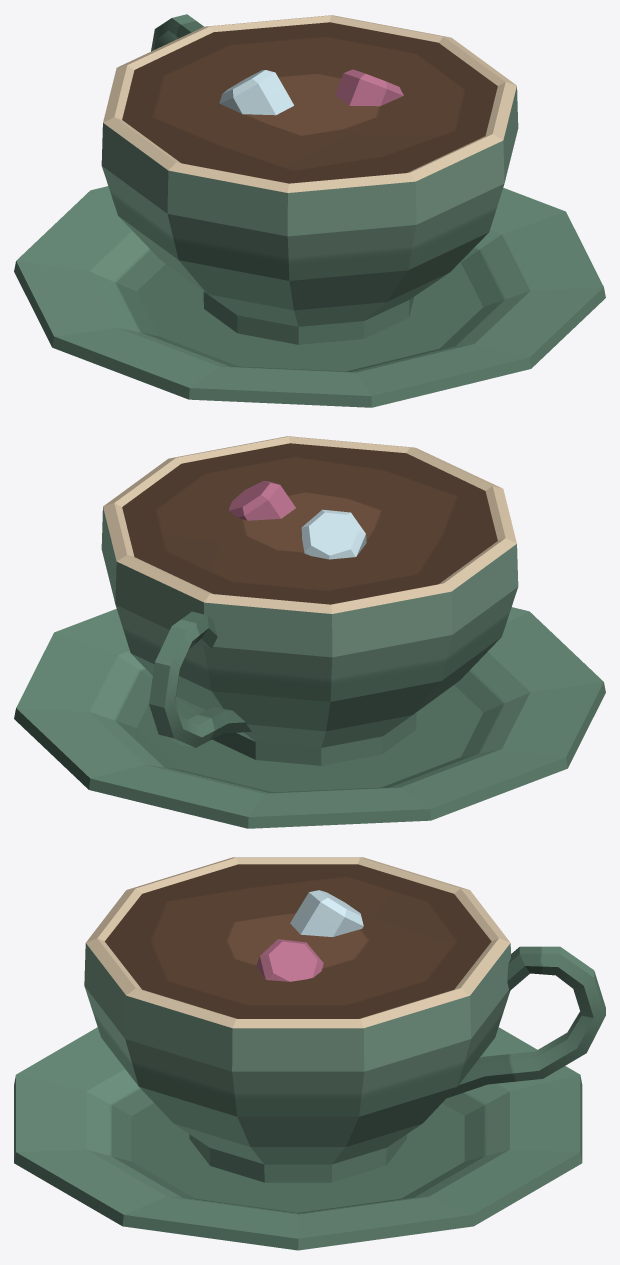
The model's file is SM_Prop_Sign_08.fbx.
The picture shows the model from 3 angles, top to bottom: view 1: azimuth 30°, elevation 25°; view 2: azimuth 150°, elevation 25°; view 3: azimuth 270°, elevation 25°; orthographic projection.
Visible parts, largest first — view 1: SM_Prop_Sign_08; view 2: SM_Prop_Sign_08; view 3: SM_Prop_Sign_08.
Part boxes in pixels (x1=…): SM_Prop_Sign_08: x1=14, y1=14, x2=605, y2=407; SM_Prop_Sign_08: x1=14, y1=436, x2=605, y2=828; SM_Prop_Sign_08: x1=14, y1=857, x2=605, y2=1250.
Bounding box in the file's own units: 191 × 89.57 × 189.
